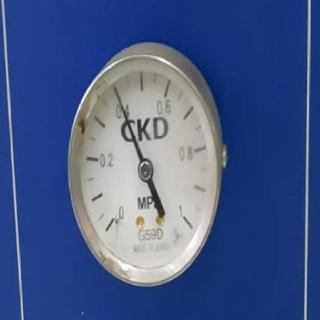gauge: (60, 7, 228, 317), (176, 207, 209, 243), (99, 202, 129, 238), (136, 158, 154, 182), (109, 85, 122, 98)
